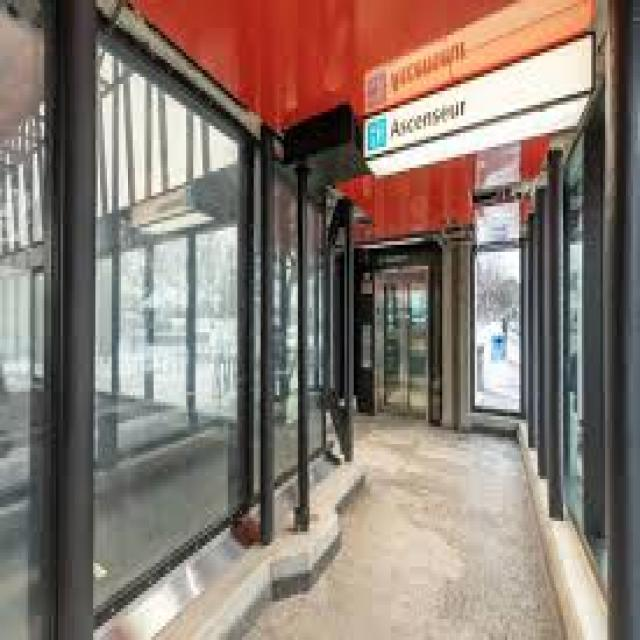elevator: (366, 123, 389, 152)
